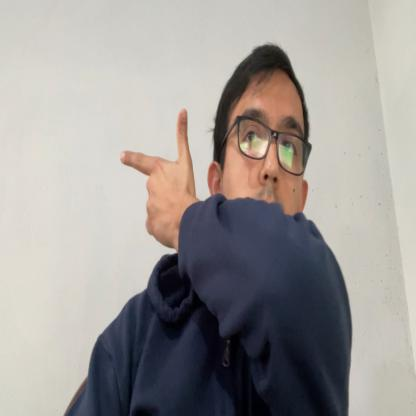G: (120, 110, 190, 248)
